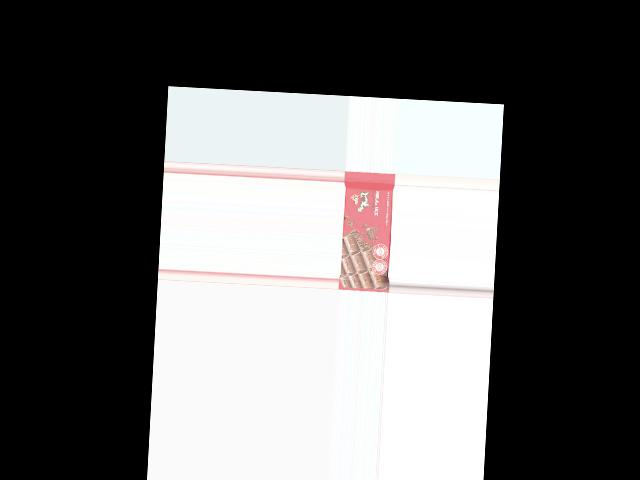chocolate: (339, 170, 395, 291)
